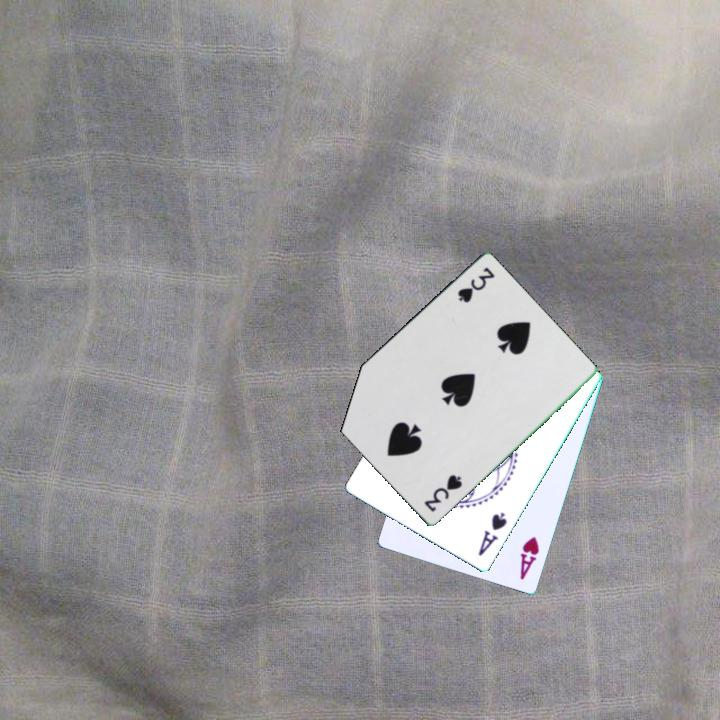3s: (420, 471, 465, 516), (454, 264, 497, 306)
Ah: (517, 533, 542, 583)
As: (475, 510, 510, 559)
